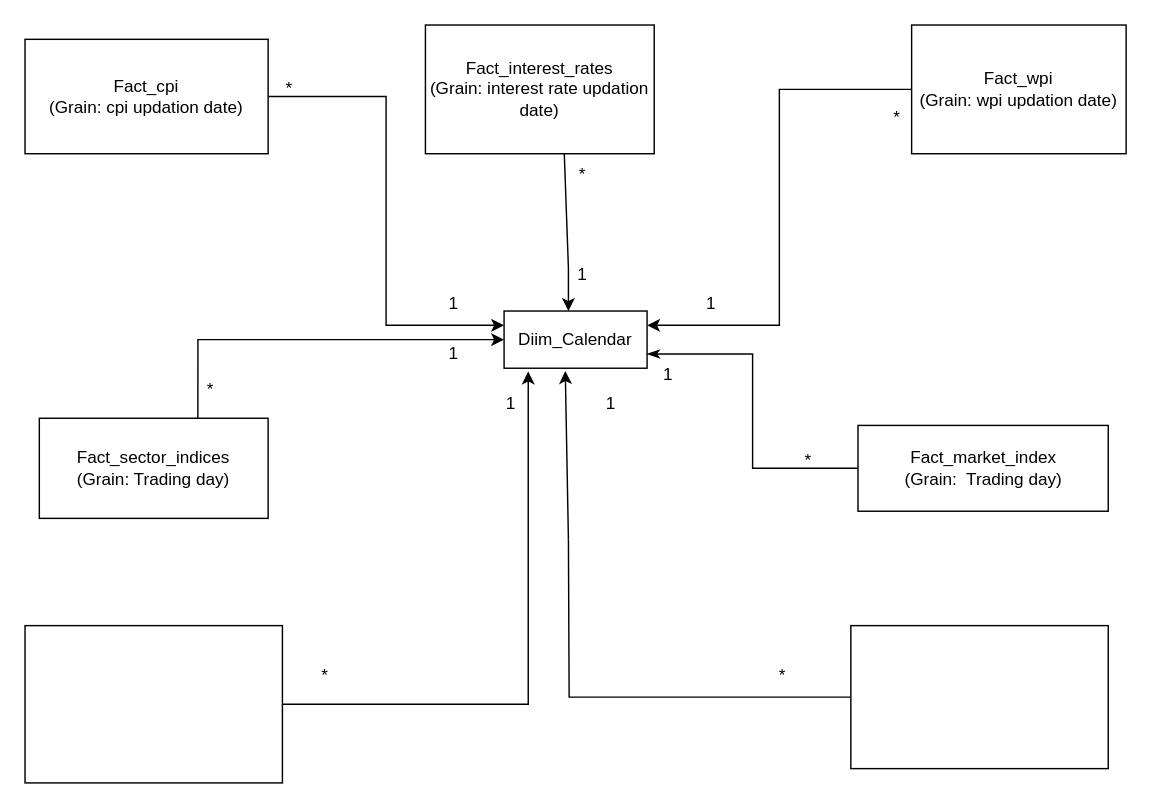
This 1151x808 diagram has some shape labels left out. Here are the shapes that lost their labels. From the top down, the box of each, then its label:
(24, 624, 282, 783): Fact_News (Grain: news article)
(849, 624, 1108, 769): Dim_Event (Grain: event occurrence)
